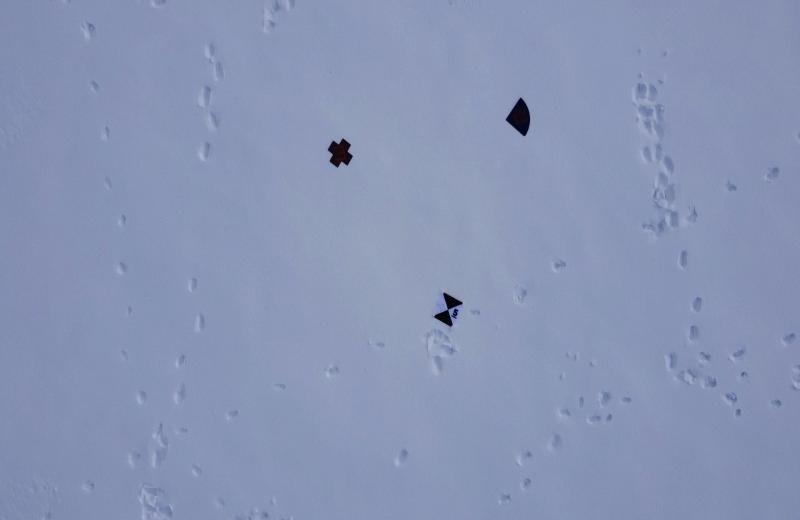Cross: (326, 138, 354, 168)
Quarter Circle: (504, 92, 533, 139)
